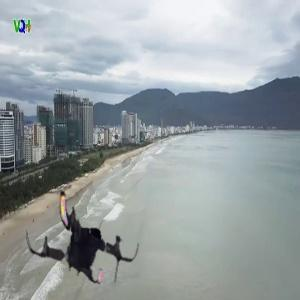drone: (24, 174, 146, 296)
